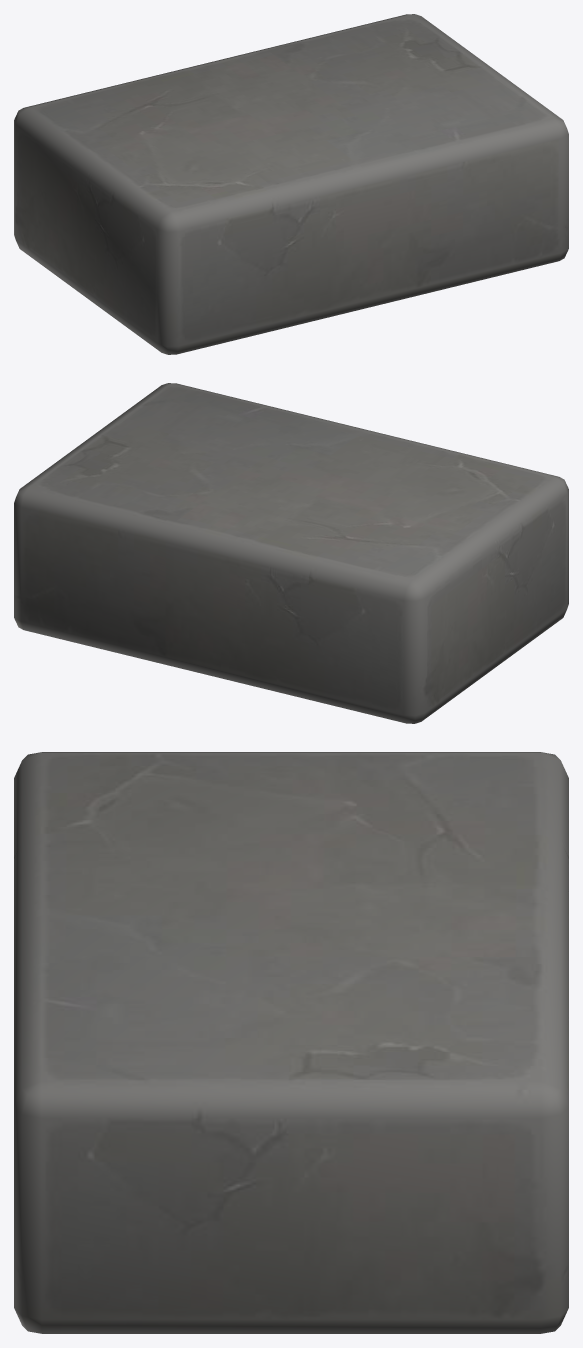
Rendered from Brick_01.fbx.
The picture shows the model from 3 angles, top to bottom: view 1: azimuth 30°, elevation 25°; view 2: azimuth 150°, elevation 25°; view 3: azimuth 270°, elevation 25°; orthographic projection. The views are drawn at different scales.
Visible parts, largest first — view 1: Brick_01; view 2: Brick_01; view 3: Brick_01.
Part boxes in pixels (x1=…): Brick_01: x1=14, y1=14, x2=568, y2=354; Brick_01: x1=14, y1=383, x2=568, y2=723; Brick_01: x1=14, y1=752, x2=568, y2=1333.
Bounding box in the file's own units: 1.5 × 0.5 × 1.
